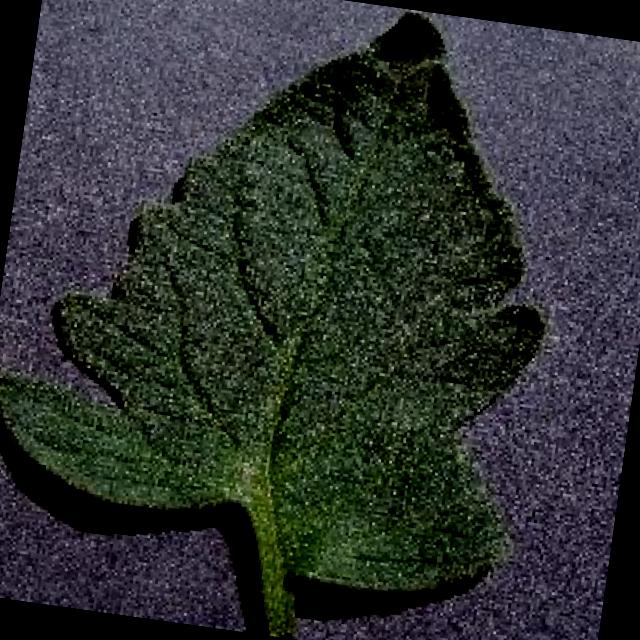healthy: (0, 16, 549, 640)
